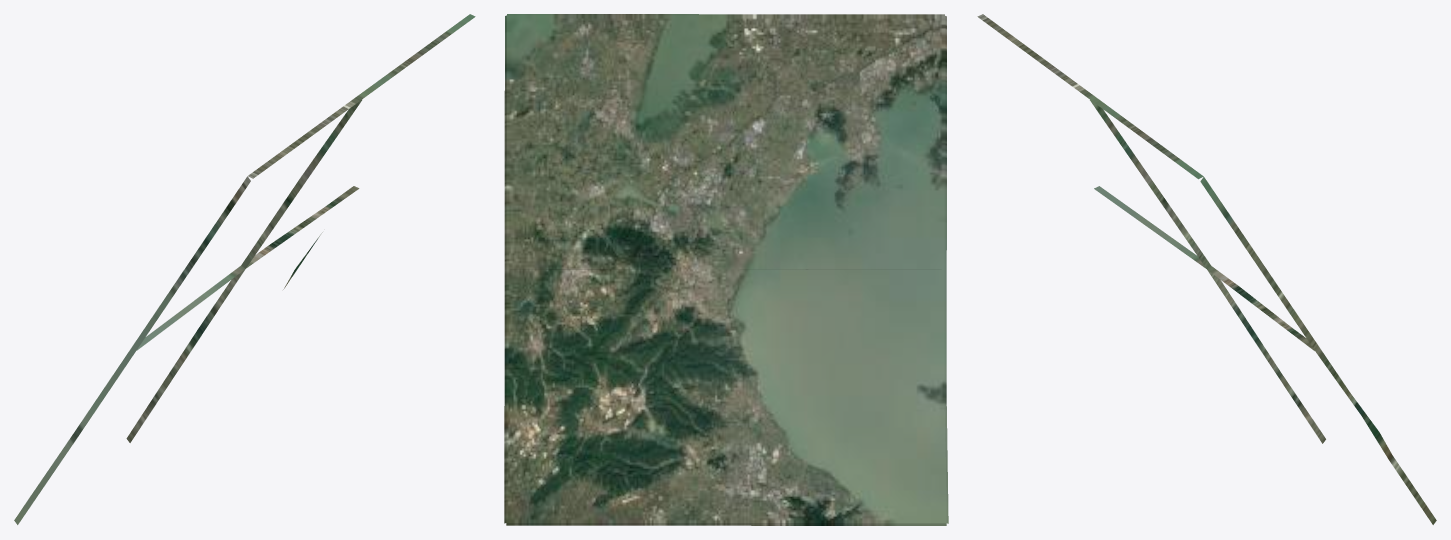
The picture shows the model from 3 angles, left to right: view 1: azimuth 30°, elevation 25°; view 2: azimuth 150°, elevation 25°; view 3: azimuth 270°, elevation 25°; orthographic projection.
Bounding box in the file's own units: 79465 × 67683 × 69594.
1 material, 1 textured.
